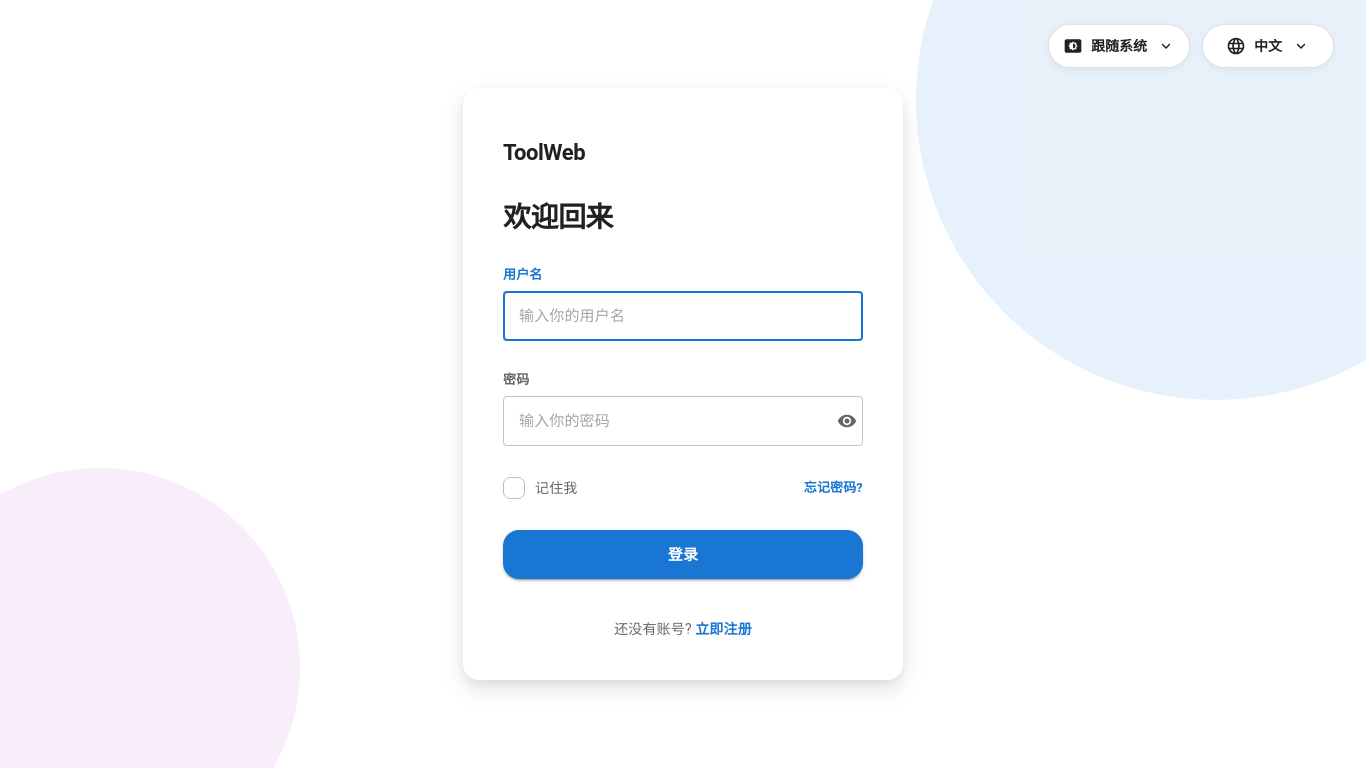
Test case: LoginPage › opens forgot password dialog and submits a 2FA reset
Click the link "忘记密码?" at (833, 488), box x1=804 y1=478 x2=863 y2=498
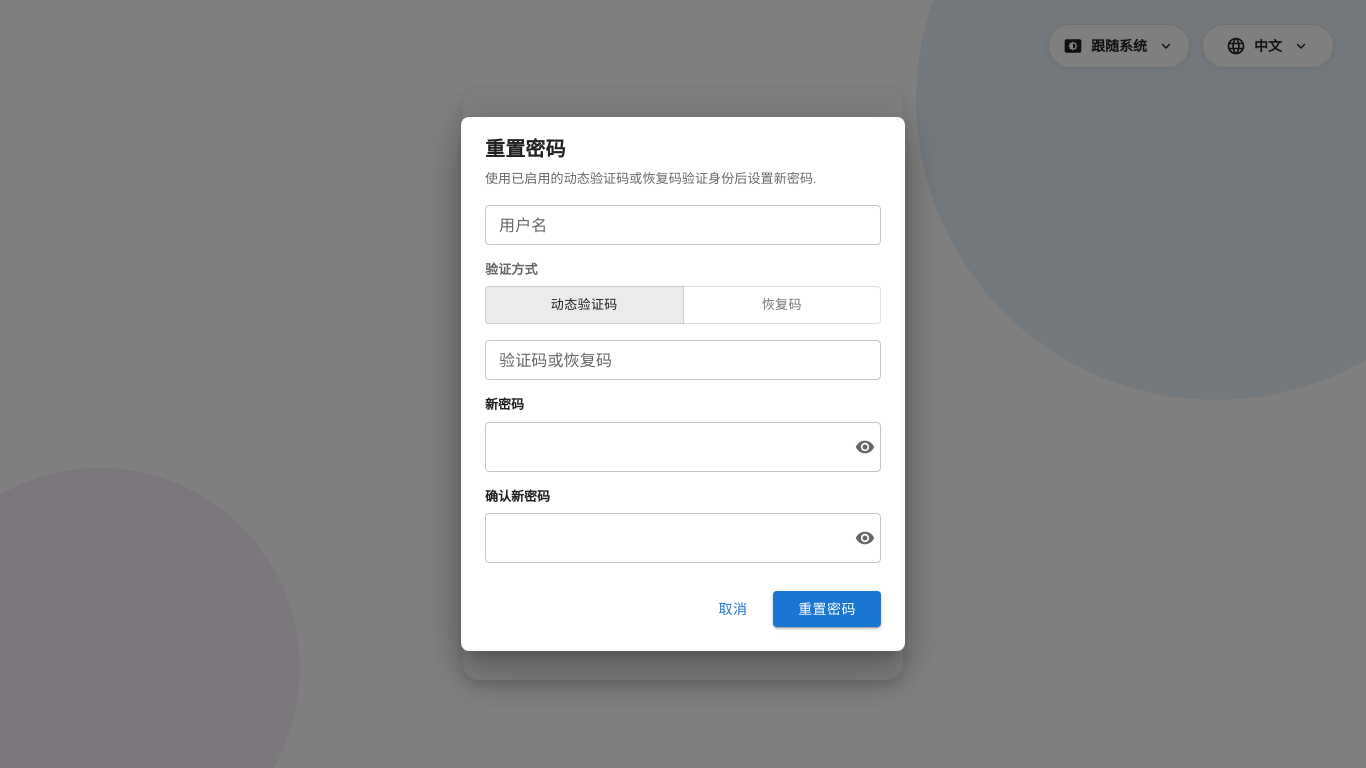
Check: the dialog is shown, box x1=461 y1=117 x2=905 y2=651
Check: the field with id "reset-username" is shown
Check: the field with id "reset-code" is shown, box x1=485 y1=340 x2=881 y2=380
Type "rex" into the field with id "reset-username" at (683, 225), box x1=485 y1=205 x2=881 y2=245
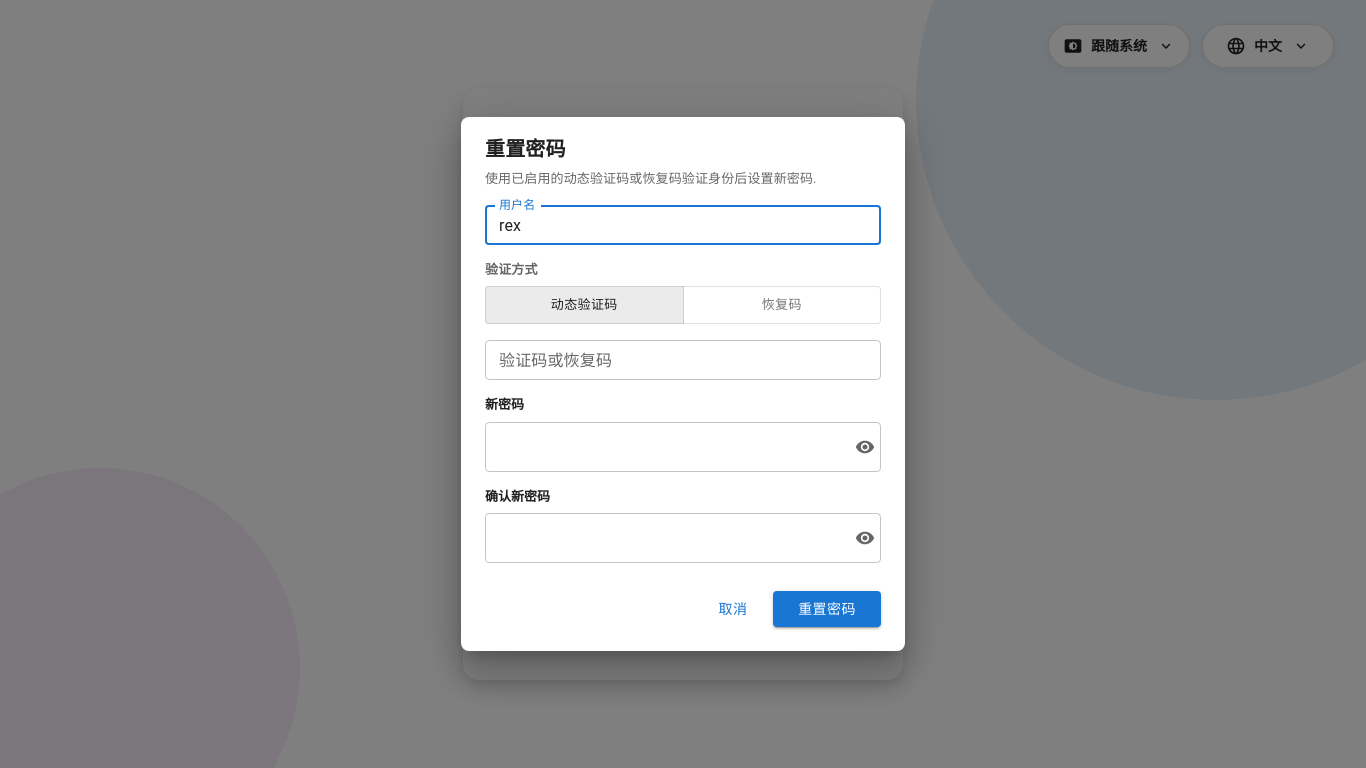
Type "123456" into the field with id "reset-code" at (683, 360), box x1=485 y1=340 x2=881 y2=380
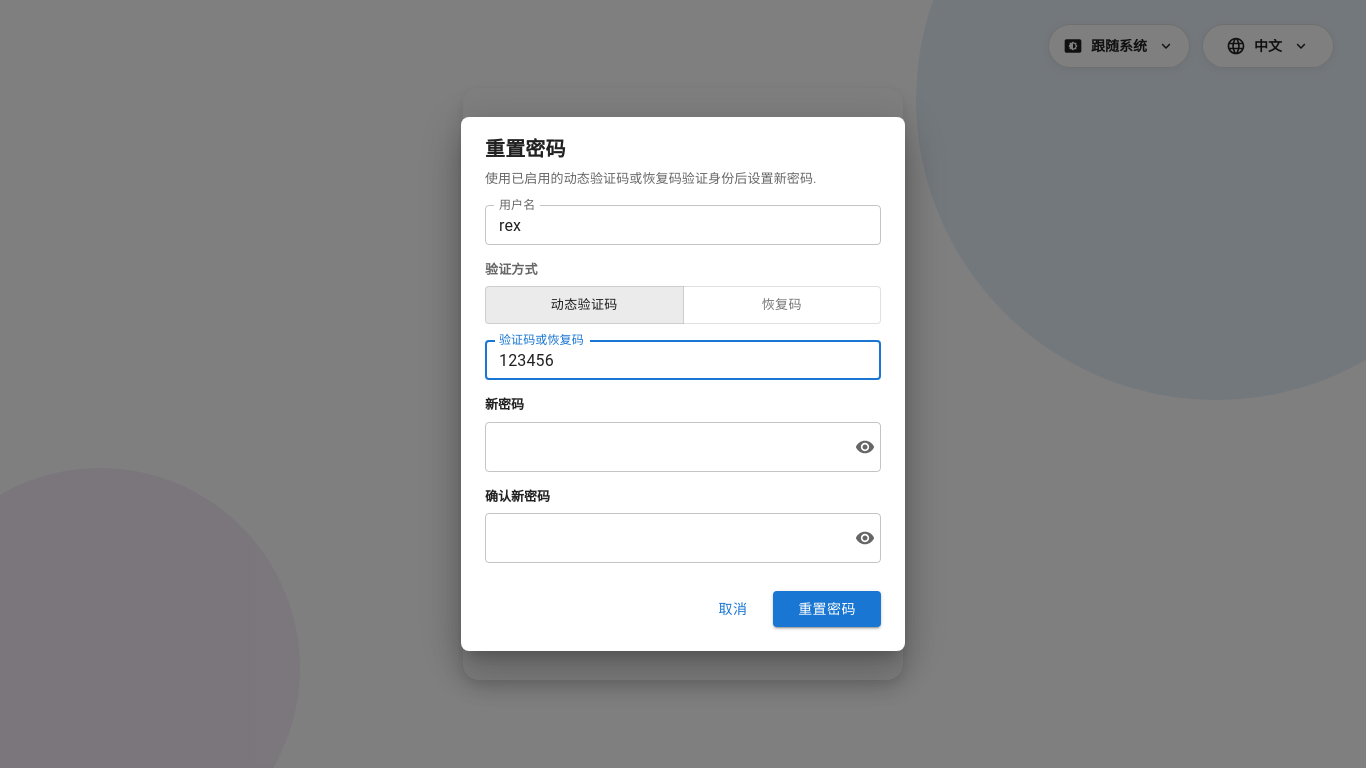
Type "newpass123" into the 1st password field at (664, 446), box x1=485 y1=422 x2=842 y2=472
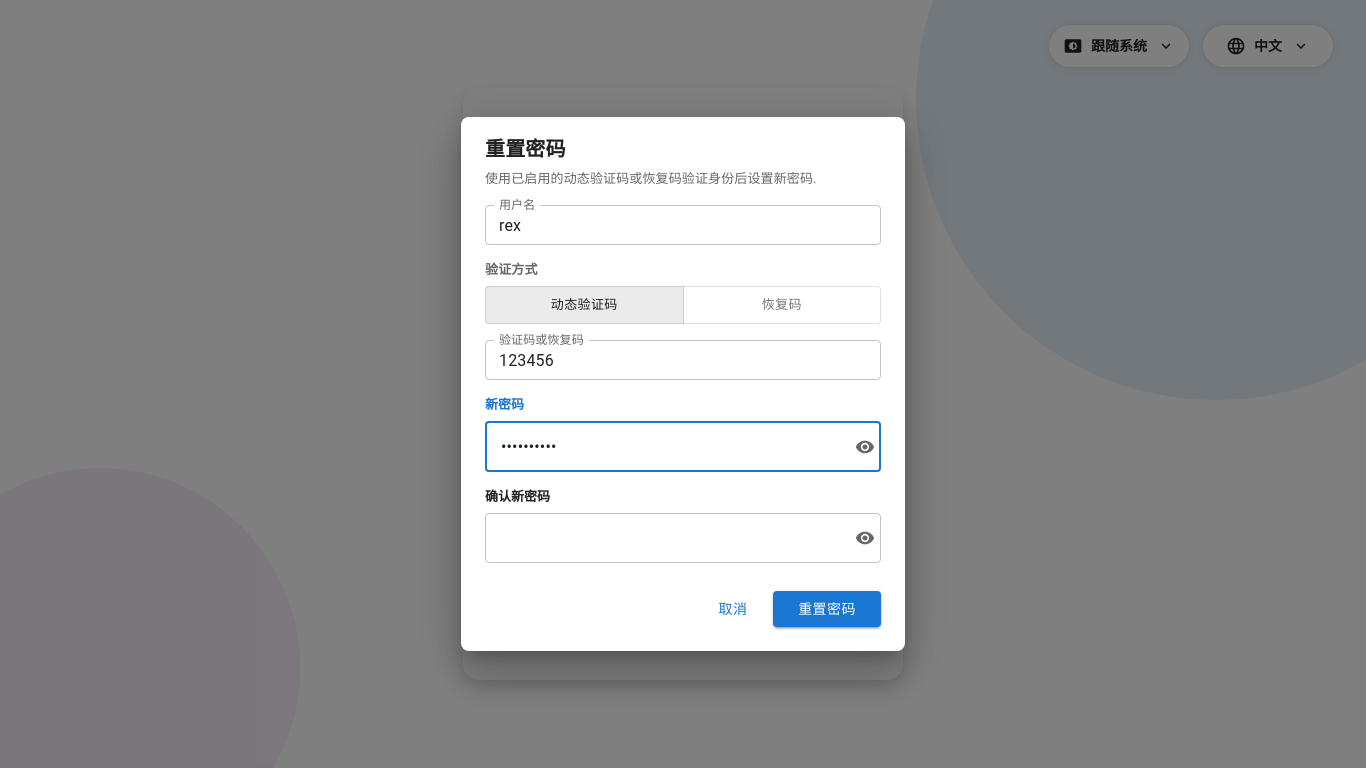
Type "newpass123" into the password field below "确认新密码" at (664, 538), box x1=485 y1=513 x2=842 y2=563
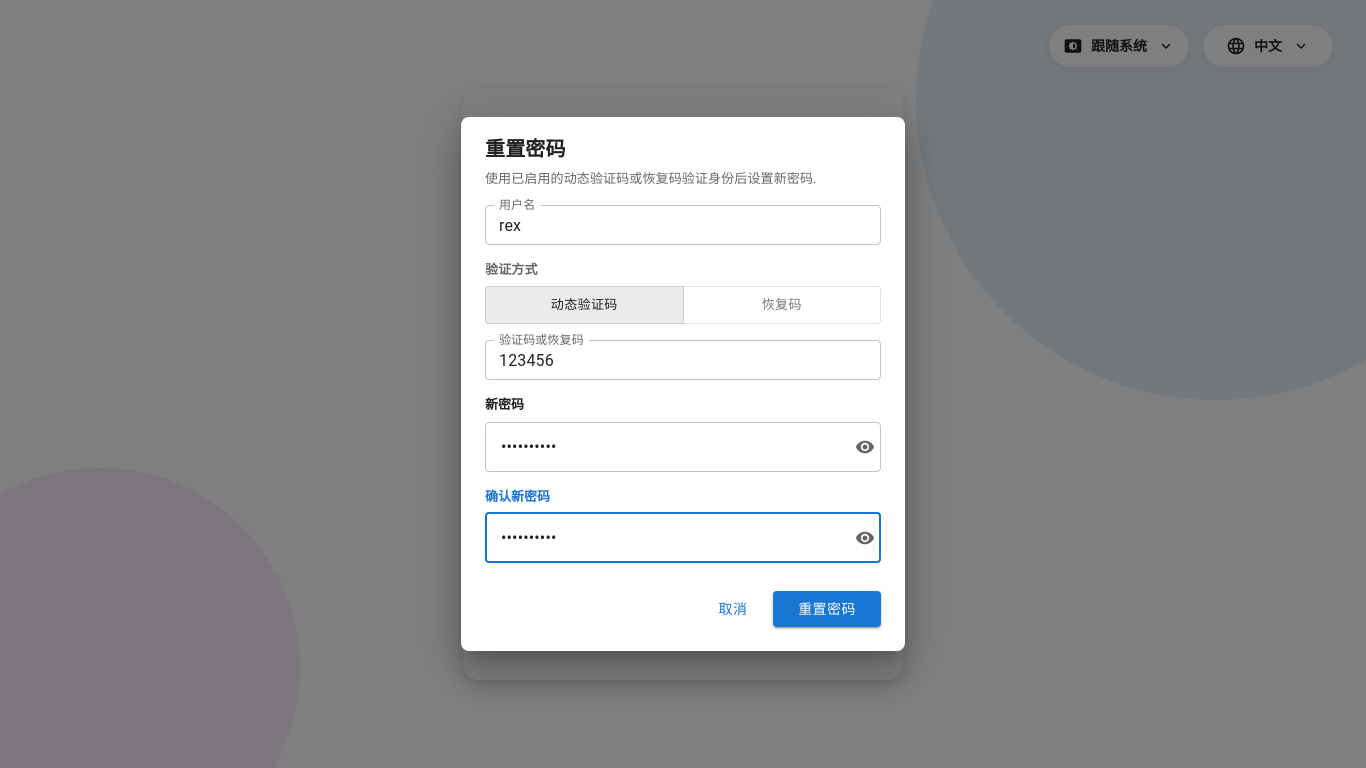
Click the button "重置密码" at (827, 609), box x1=773 y1=591 x2=881 y2=627
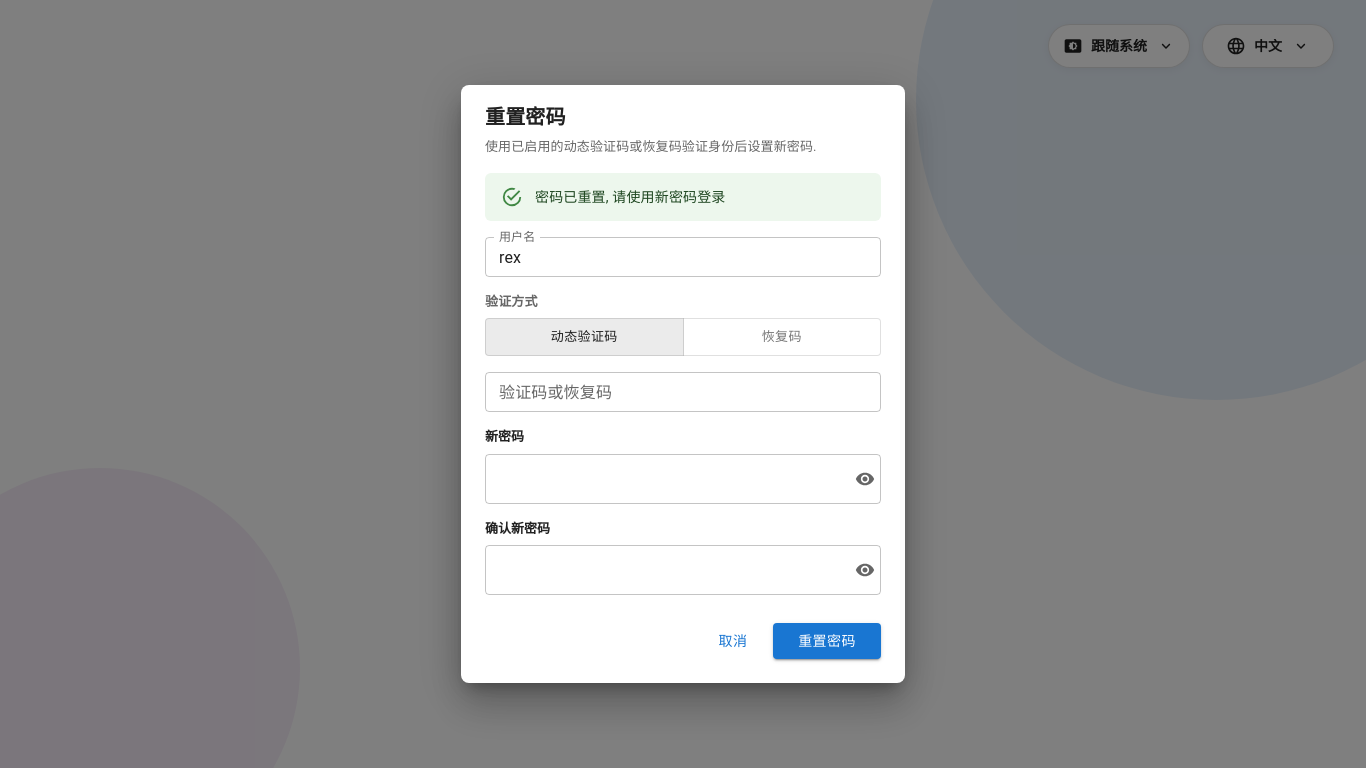
Check: the text "密码已重置, 请使用新密码登录" is shown, box x1=535 y1=189 x2=726 y2=205
